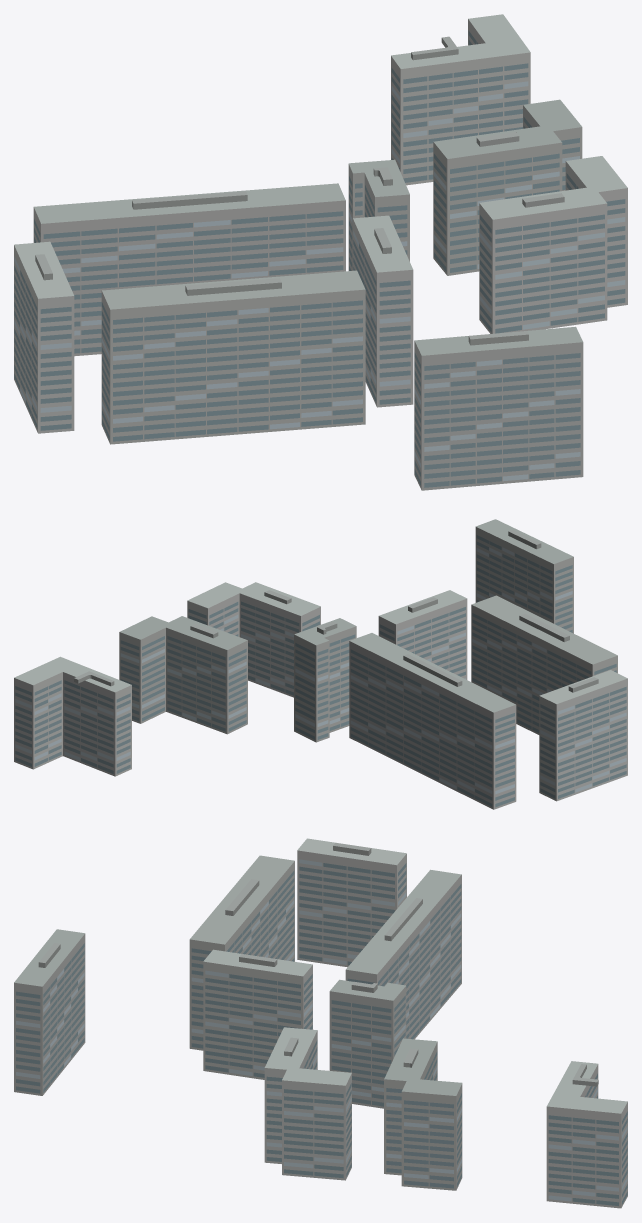
The model's file is apt-a14319011.glb.
3 renders of one model, top to bottom at view 1: azimuth 30°, elevation 25°; view 2: azimuth 150°, elevation 25°; view 3: azimuth 270°, elevation 25°, orthographic. The views are drawn at different scales.
Parts seen in each view (by area): view 1: apt-a14319011; view 2: apt-a14319011; view 3: apt-a14319011.
Part boxes in pixels (bbox=[...]): apt-a14319011: bbox=[14, 14, 627, 490]; apt-a14319011: bbox=[14, 519, 627, 809]; apt-a14319011: bbox=[14, 838, 627, 1208].
Bounding box in the file's own units: 234 × 47.81 × 233.
